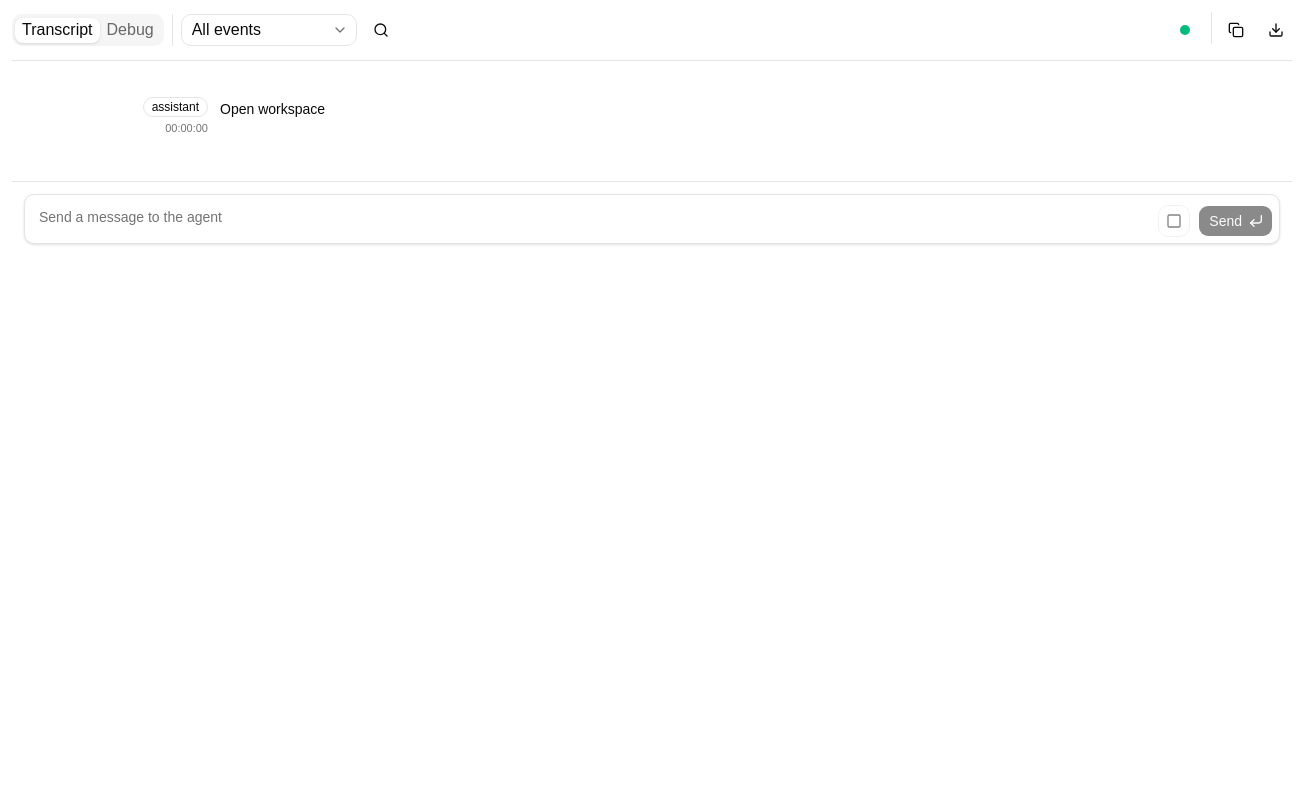
Test: [spec: sessions/console-detail] [spec: sessions/console-transcript] sessions UI contracts › shows the selected transcript event beside the message list
The width and height of the screenshot is (1304, 800).
Click the button "Open workspace". click: (273, 109)
box: [220, 101, 325, 117]
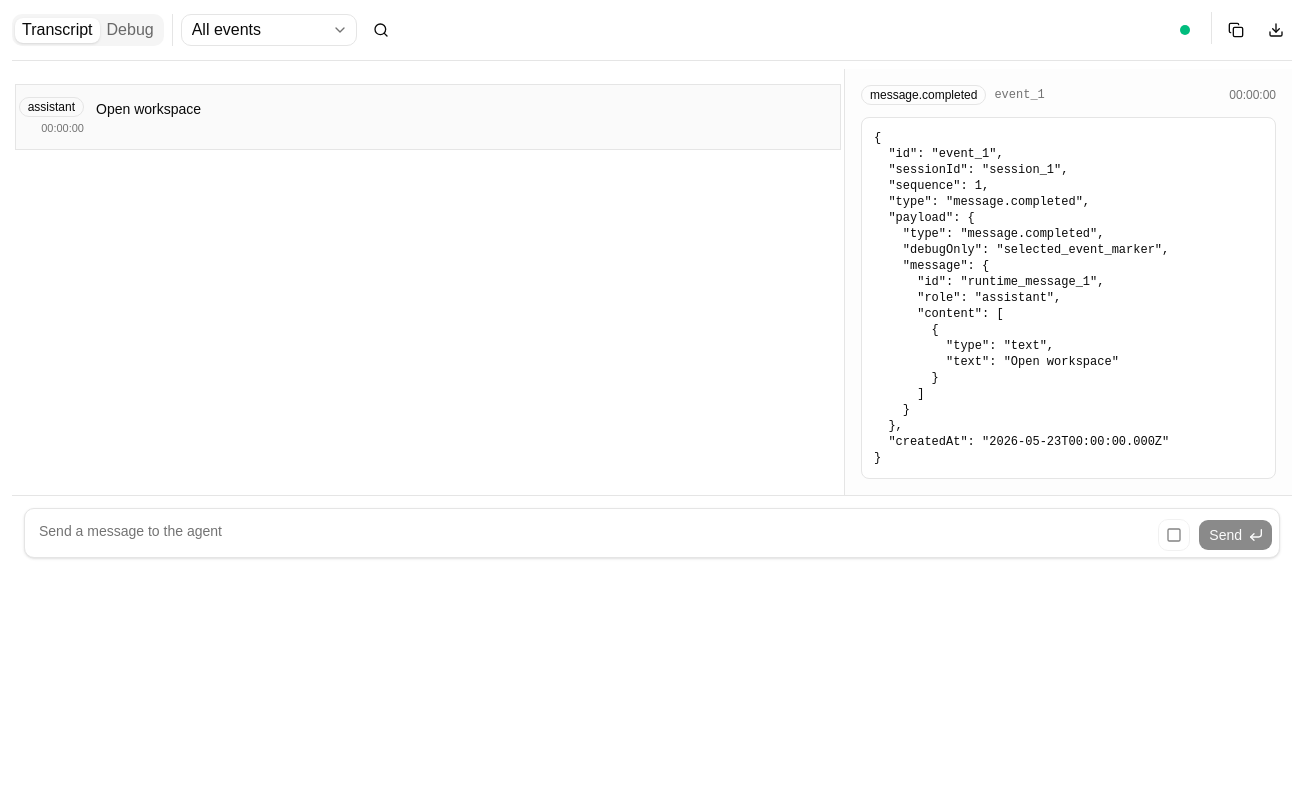
Expected: the text "event_1" is shown, [994, 87, 1045, 103]
Expected: the text "selected_event_marker" is shown, [874, 131, 1169, 465]
